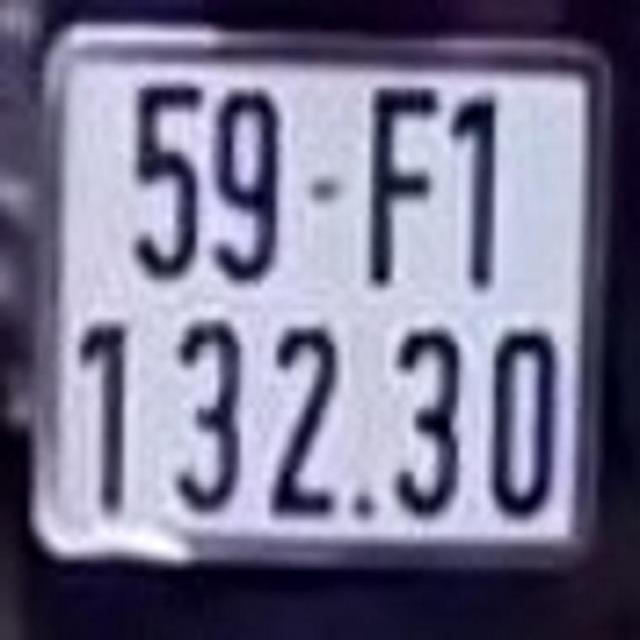0: (490, 312, 558, 529)
1: (446, 70, 510, 292), (76, 311, 138, 515)
2: (266, 307, 338, 519)
3: (392, 313, 465, 521), (174, 304, 241, 513)
5: (132, 73, 200, 282)
9: (208, 70, 282, 286)
F: (362, 71, 435, 288)
